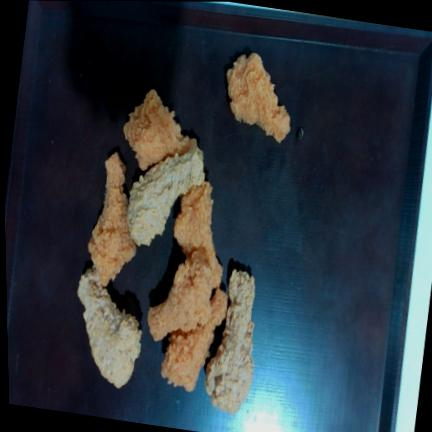chicken: (127, 147, 204, 245), (78, 268, 141, 387), (205, 269, 254, 413), (161, 288, 227, 391), (88, 152, 136, 286), (123, 89, 196, 170), (147, 251, 212, 340), (227, 52, 290, 142), (174, 181, 222, 285)
